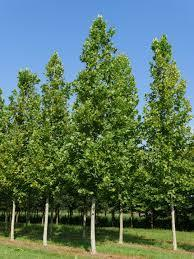tree: (56, 9, 149, 257), (131, 32, 194, 253), (19, 53, 81, 247)
